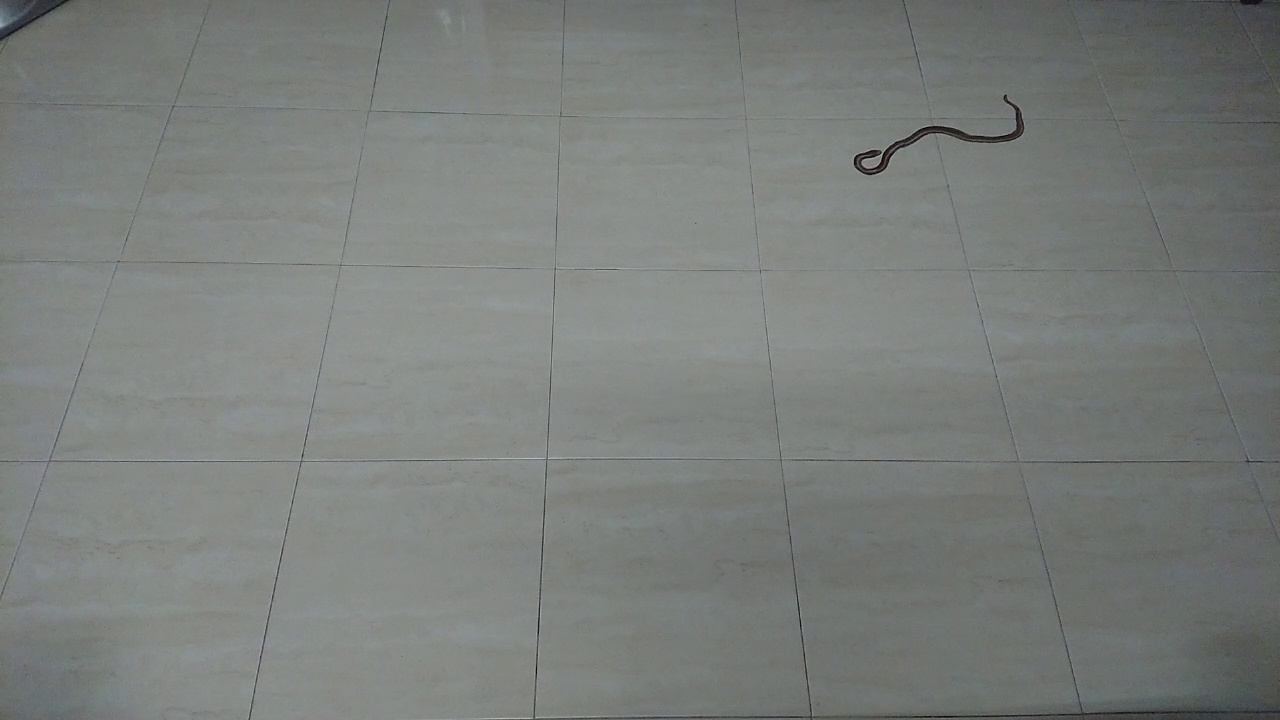snake: (840, 78, 1037, 183)
